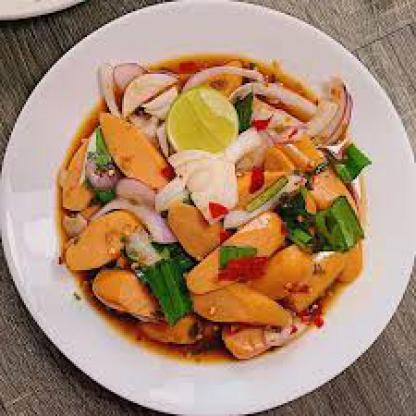Yum: (15, 30, 375, 392)
